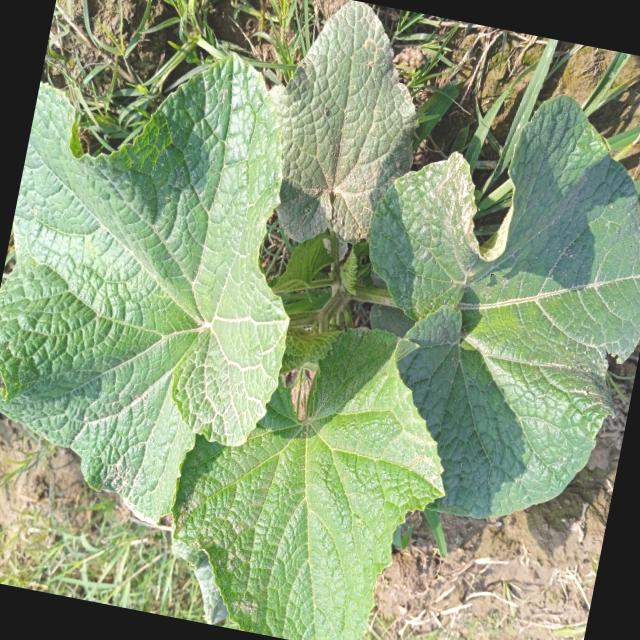cucumber_healthy: (0, 10, 343, 544), (310, 58, 640, 572), (151, 287, 479, 640), (259, 0, 442, 271)
